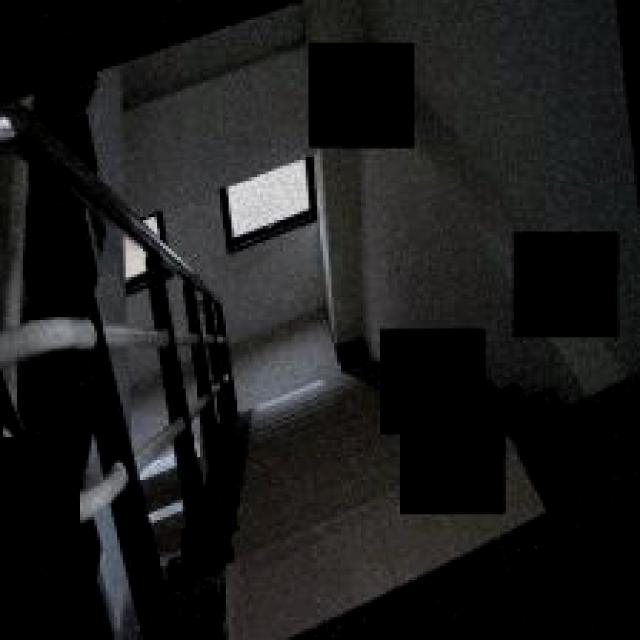downstair: (218, 406, 383, 640)
